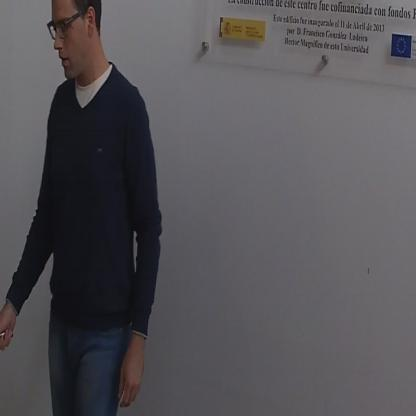knife: (0, 326, 15, 363)
